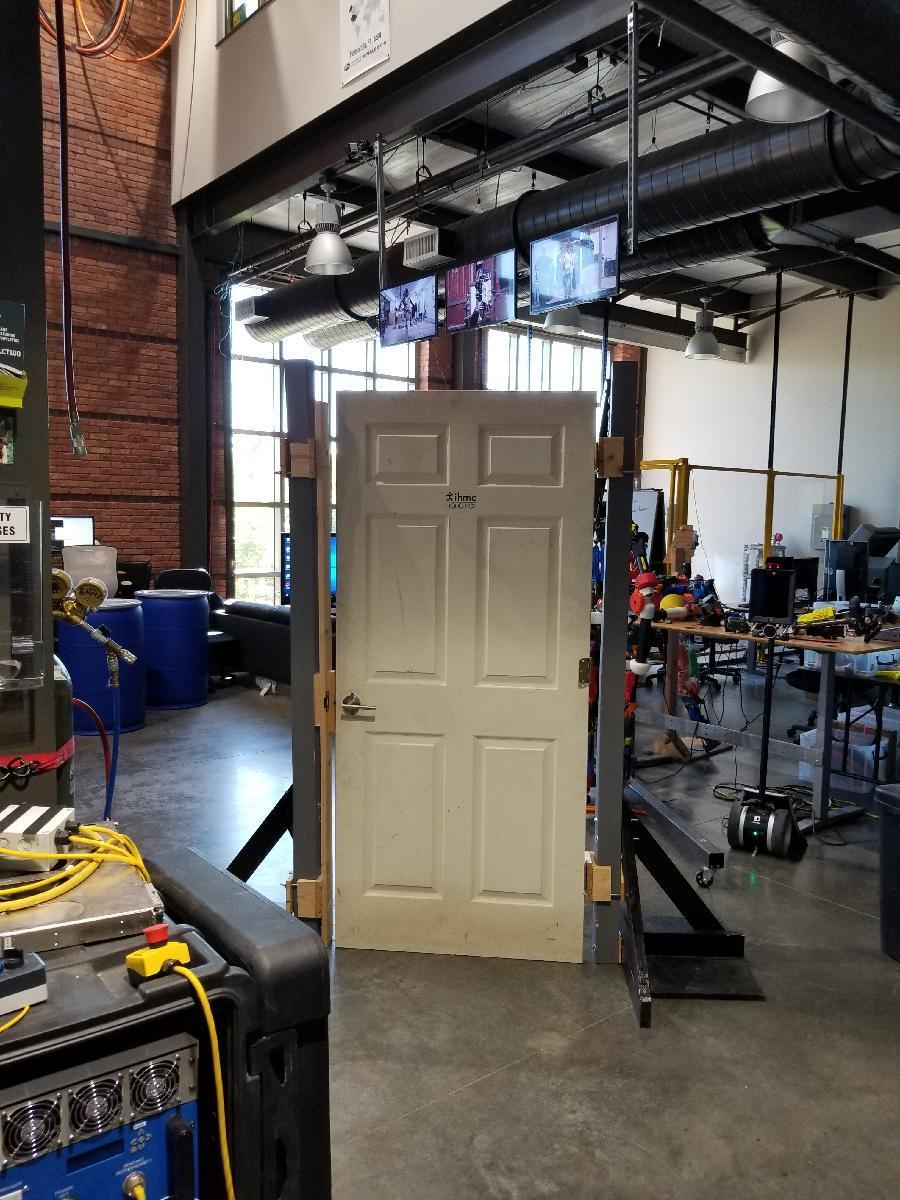door: (330, 393, 594, 965)
handle: (340, 694, 378, 718)
